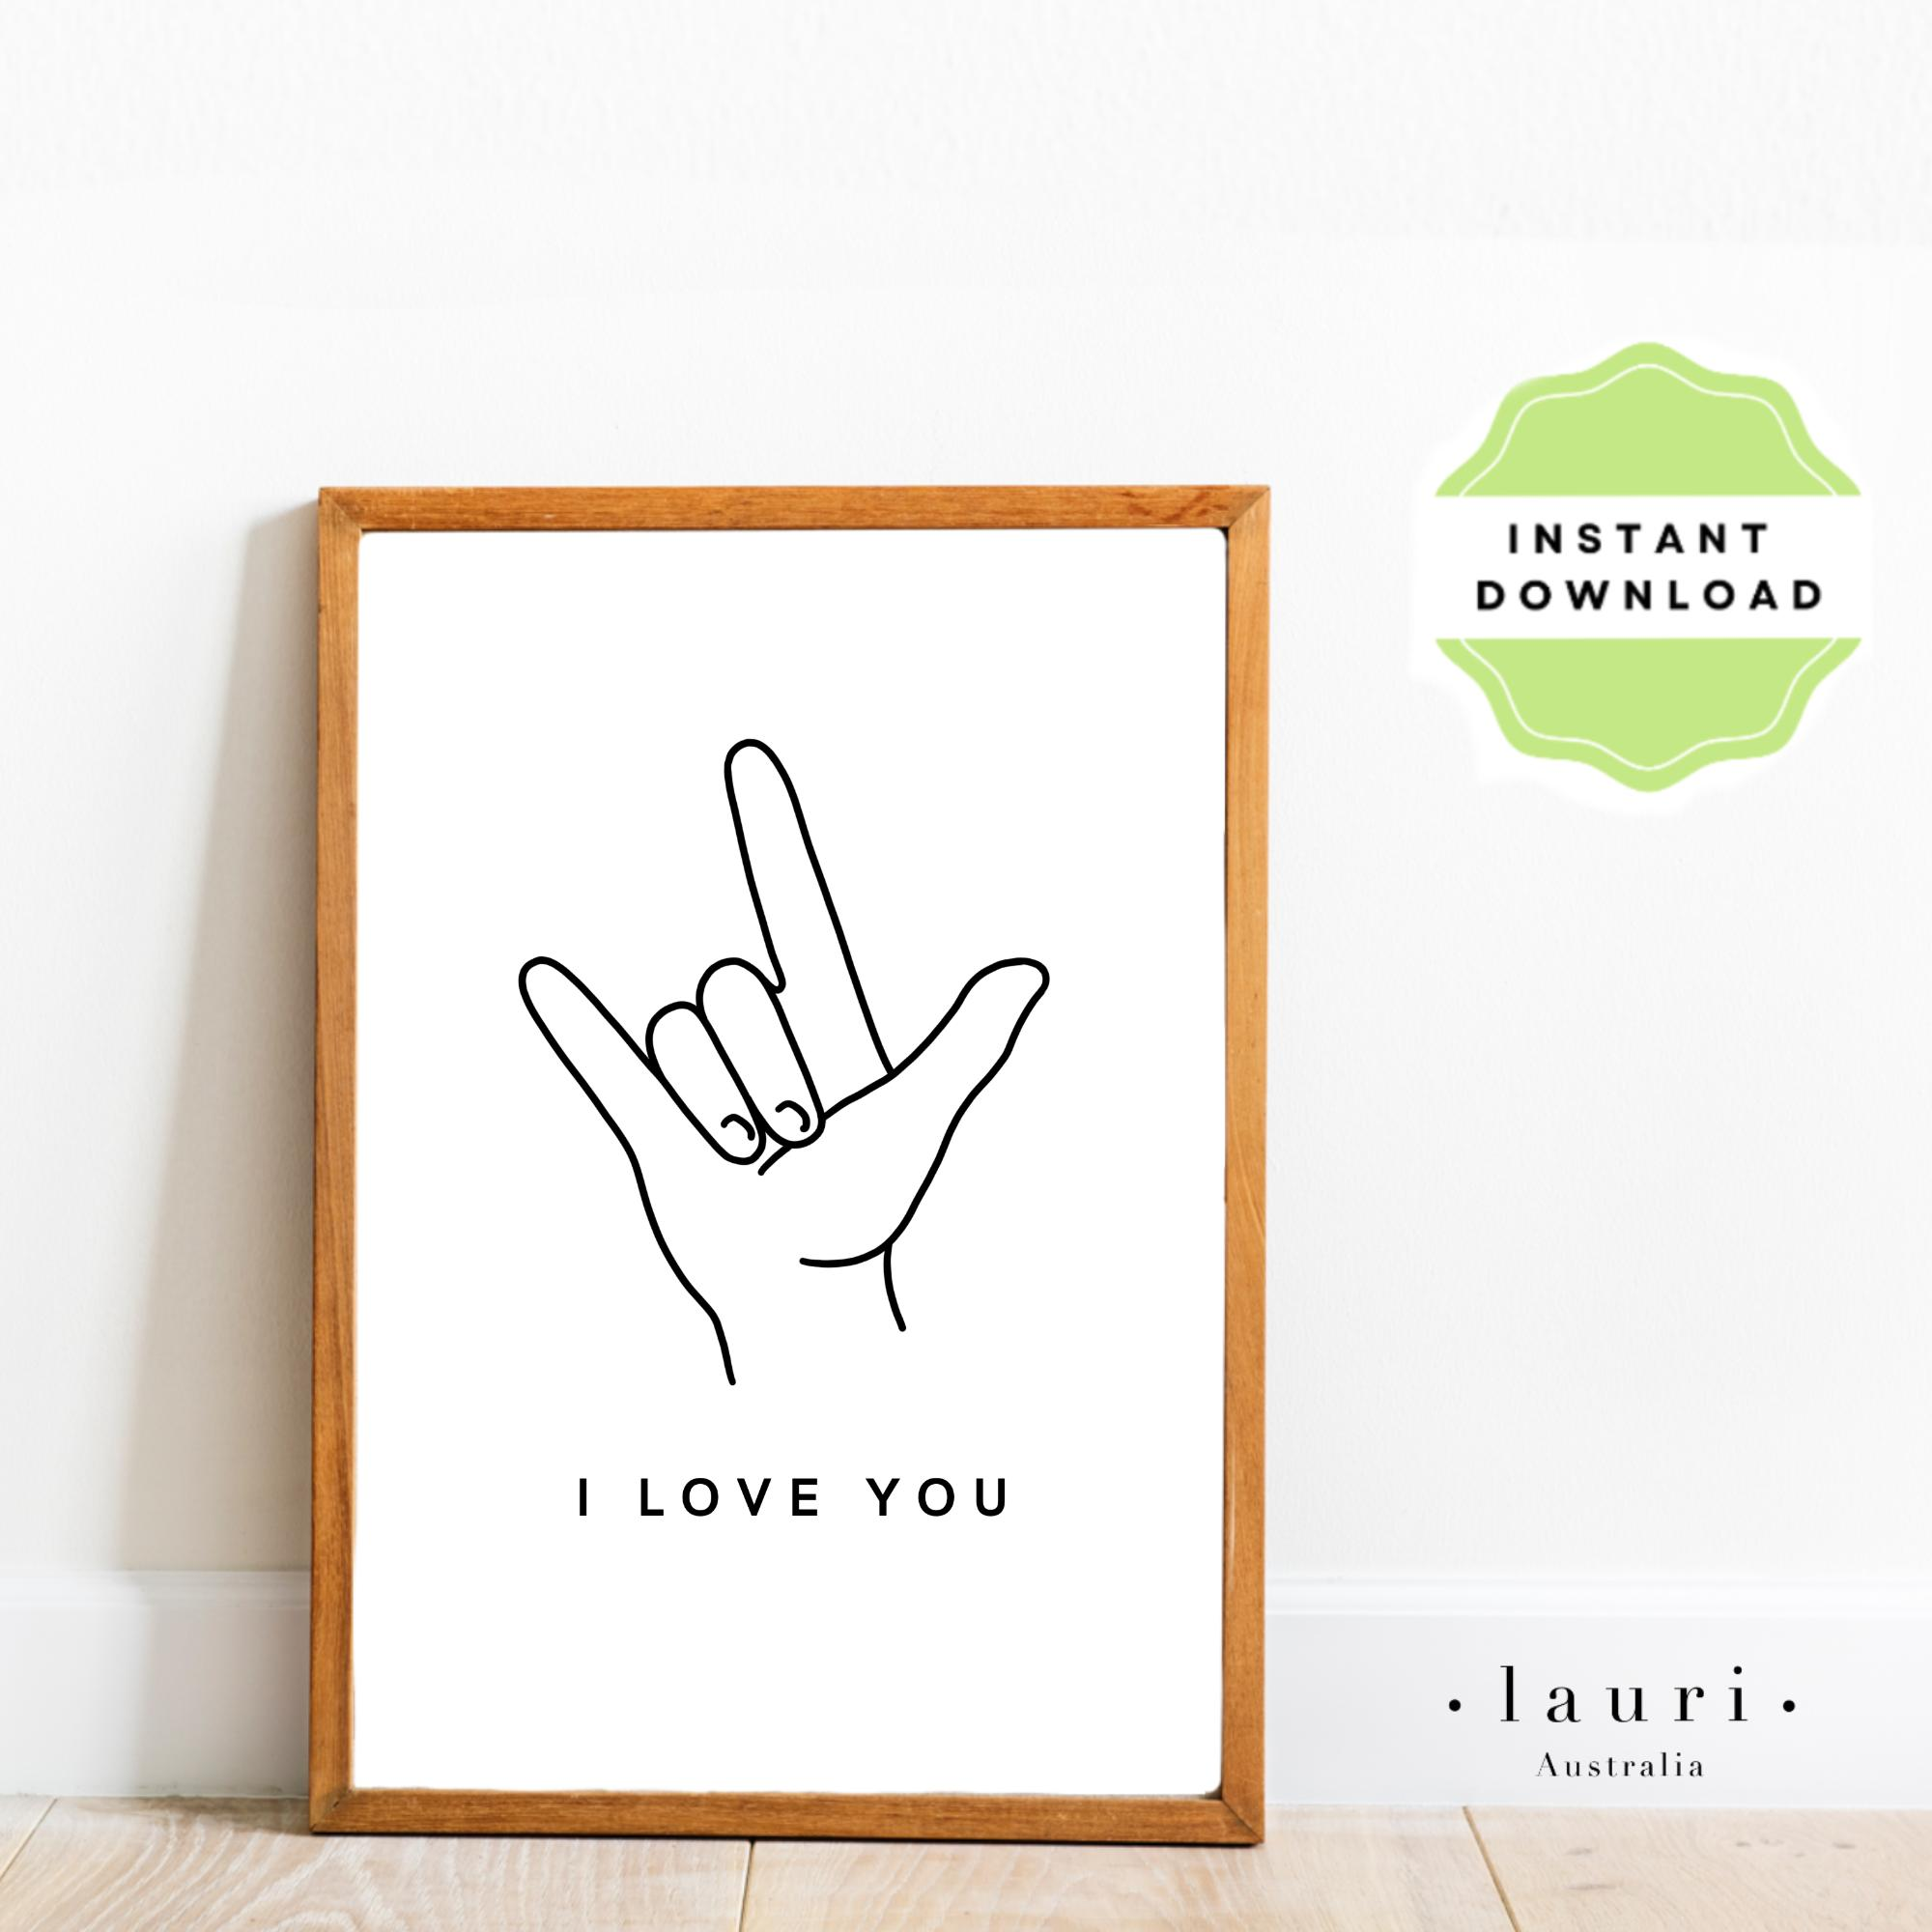Love_you: (494, 715, 1072, 1376)
